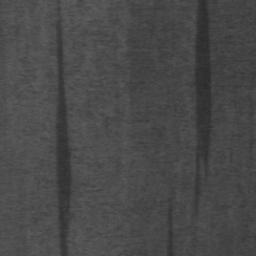Iron scale compression: (190, 0, 209, 248), (55, 0, 70, 256), (166, 198, 173, 256)
